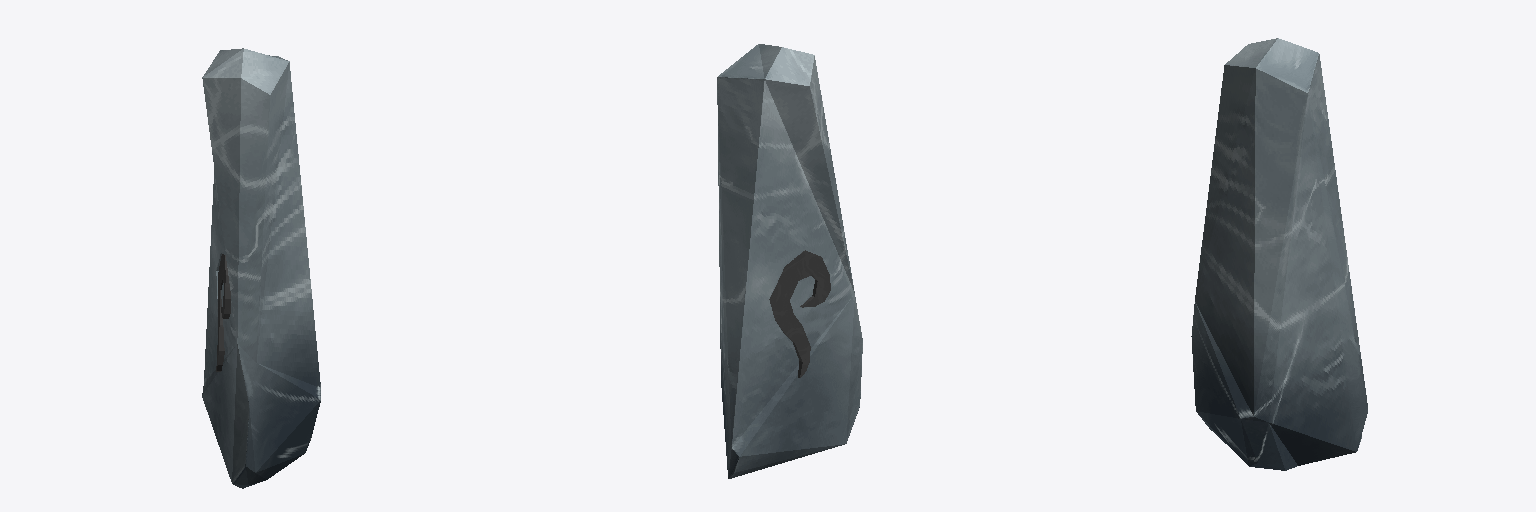
The picture shows the model from 3 angles: view 1: azimuth 30°, elevation 25°; view 2: azimuth 150°, elevation 25°; view 3: azimuth 270°, elevation 25°; orthographic projection.
Visible parts, largest first — view 1: t_skala_2; view 2: t_skala_2; view 3: t_skala_2.
Boxes of the visible parts, <box> form: t_skala_2: <box>202,48,320,488</box>; t_skala_2: <box>717,44,862,478</box>; t_skala_2: <box>1191,38,1367,470</box>.
Bounding box in the file's own units: 5.32 × 20.38 × 7.73.
Materials: 2 (2 with a texture image).